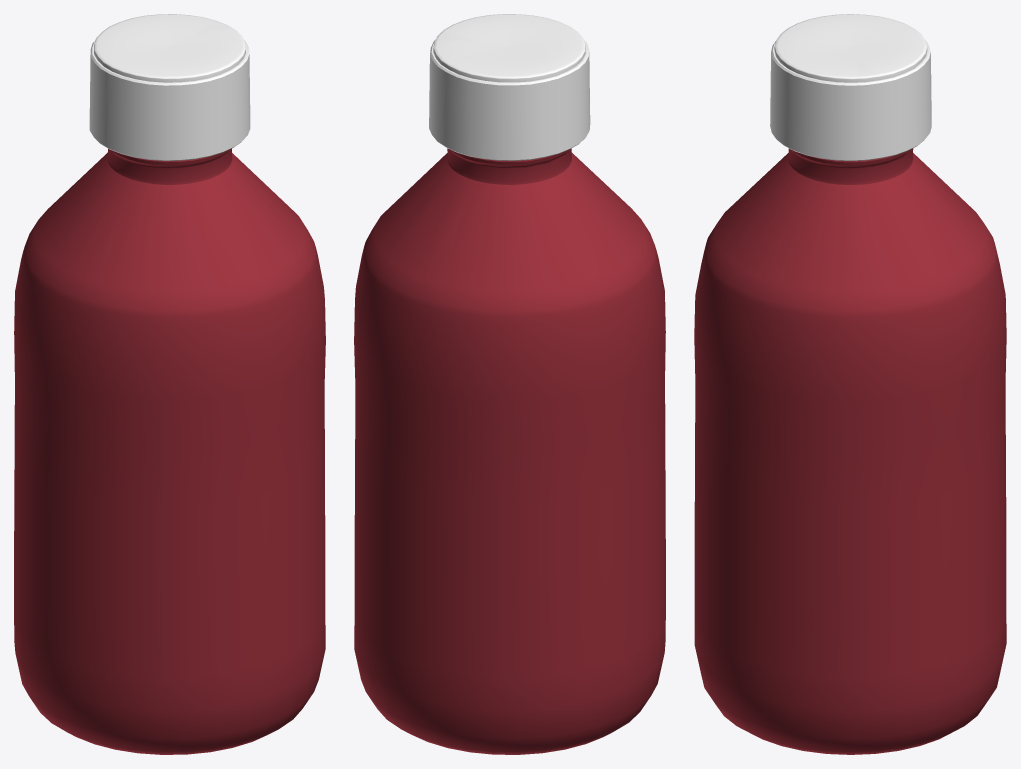
Rendered from medicinebottle_v3.fbx.
3 renders of one model, left to right at view 1: azimuth 30°, elevation 25°; view 2: azimuth 150°, elevation 25°; view 3: azimuth 270°, elevation 25°, orthographic.
Parts seen in each view (by area): view 1: medicine_bottle_v3; view 2: medicine_bottle_v3; view 3: medicine_bottle_v3.
Boxes of the visible parts, x1,y1,x2,y2 form: medicine_bottle_v3: [14, 14, 325, 754]; medicine_bottle_v3: [354, 14, 665, 754]; medicine_bottle_v3: [694, 14, 1006, 754].
Size of the model in its own units: 25.72 by 59.89 by 25.71.
Materials: 1 (1 with a texture image).
